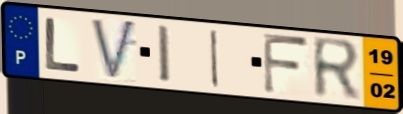F: (261, 31, 312, 97)
I: (155, 23, 173, 85), (209, 27, 221, 89)
L: (42, 15, 84, 74)
R: (310, 35, 364, 104)
V: (88, 16, 139, 84)
